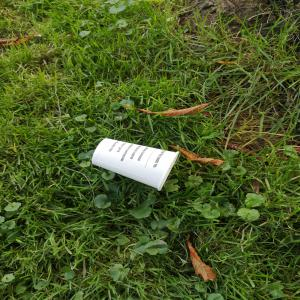Cup: (91, 138, 183, 195)
